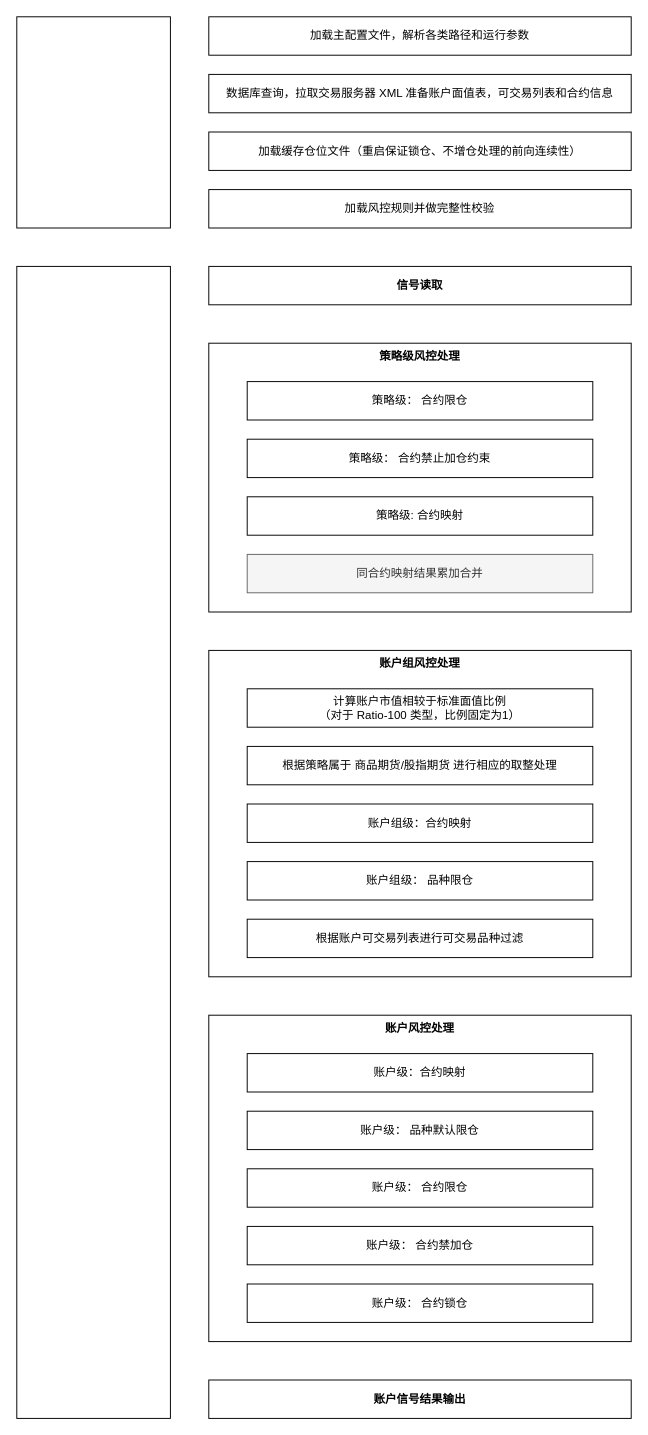
Some shapes in this 648 by 1435 pixel diagram are drawn without their labels. Each missing label, with the centre of its shape:
信号分发: point 93,841
配置解析 & 数据准备: point 93,122
